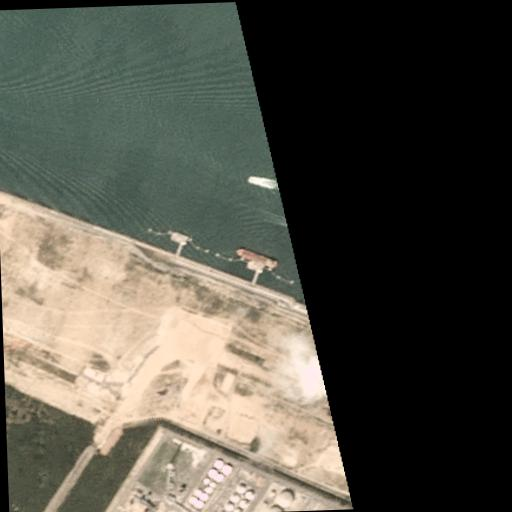ship: (236, 244, 276, 268)
